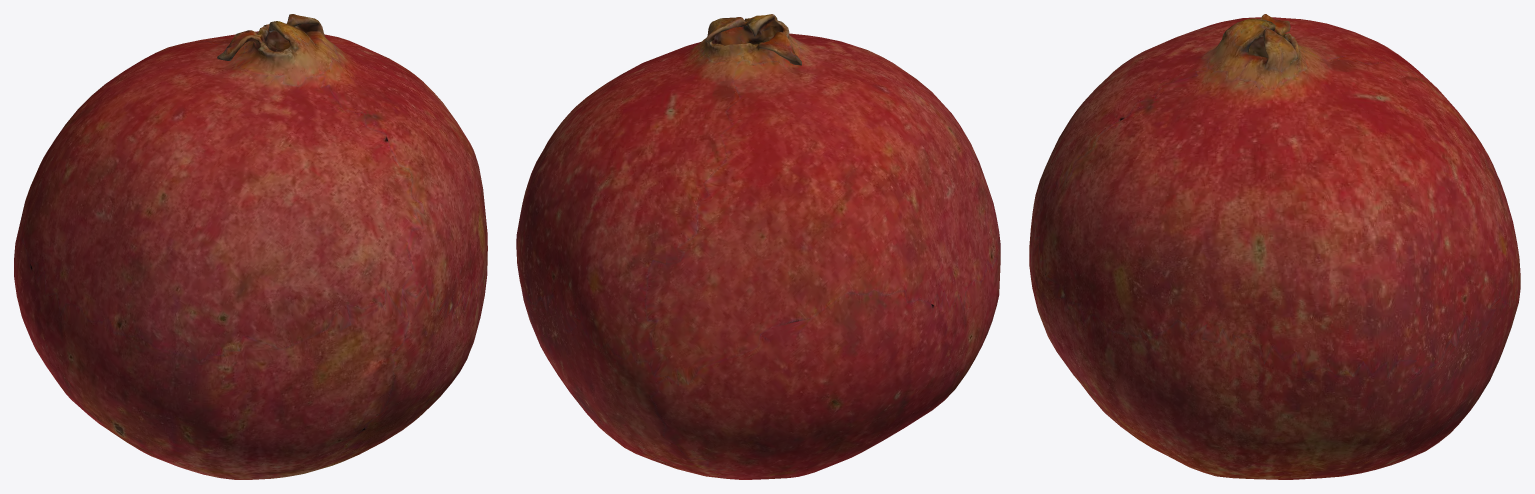
Rendered from food_pomegranate_01.glb.
The picture shows the model from 3 angles, left to right: view 1: azimuth 30°, elevation 25°; view 2: azimuth 150°, elevation 25°; view 3: azimuth 270°, elevation 25°; orthographic projection. The views are drawn at different scales.
Visible parts, largest first — view 1: food_pomegranate_01; view 2: food_pomegranate_01; view 3: food_pomegranate_01.
Boxes of the visible parts, x1,y1,x2,y2 form: food_pomegranate_01: (14,14,487,479); food_pomegranate_01: (516,14,1000,479); food_pomegranate_01: (1029,14,1520,479).
Bounding box in the file's own units: 0.1143 × 0.115 × 0.1154.
1 material, 1 textured.
